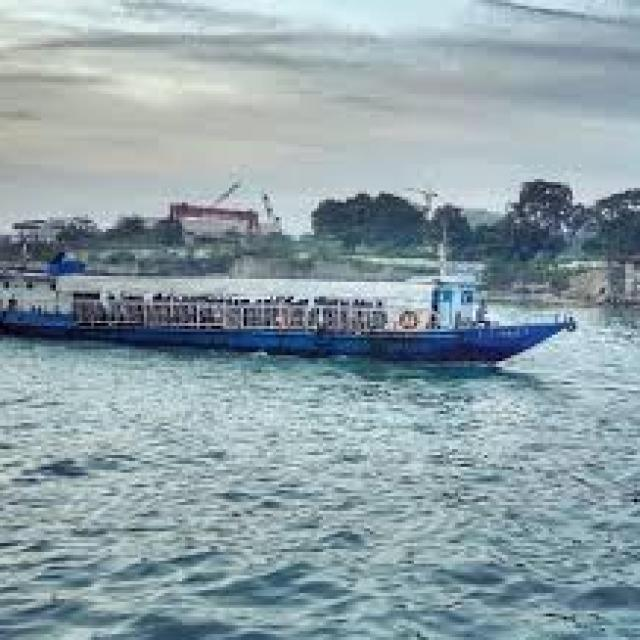houseboat: (0, 270, 576, 358)
